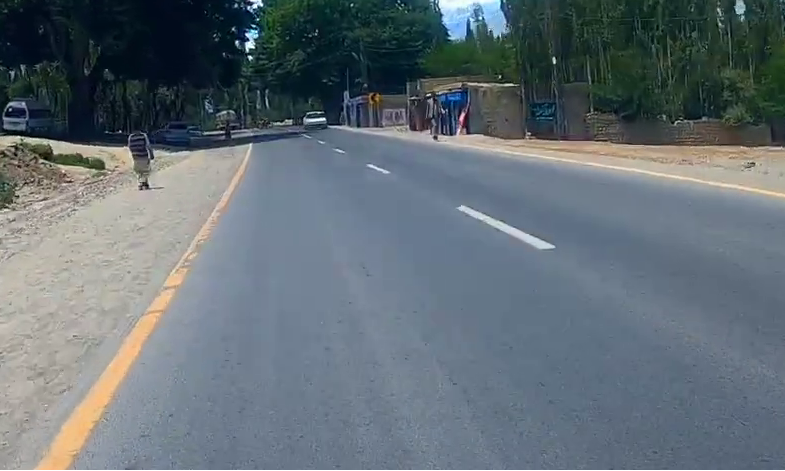left: (278, 150, 704, 420)
